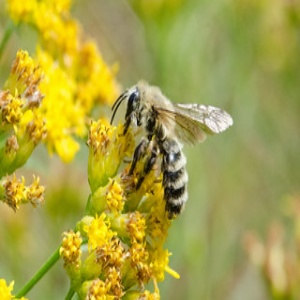bee: (112, 80, 233, 215)
